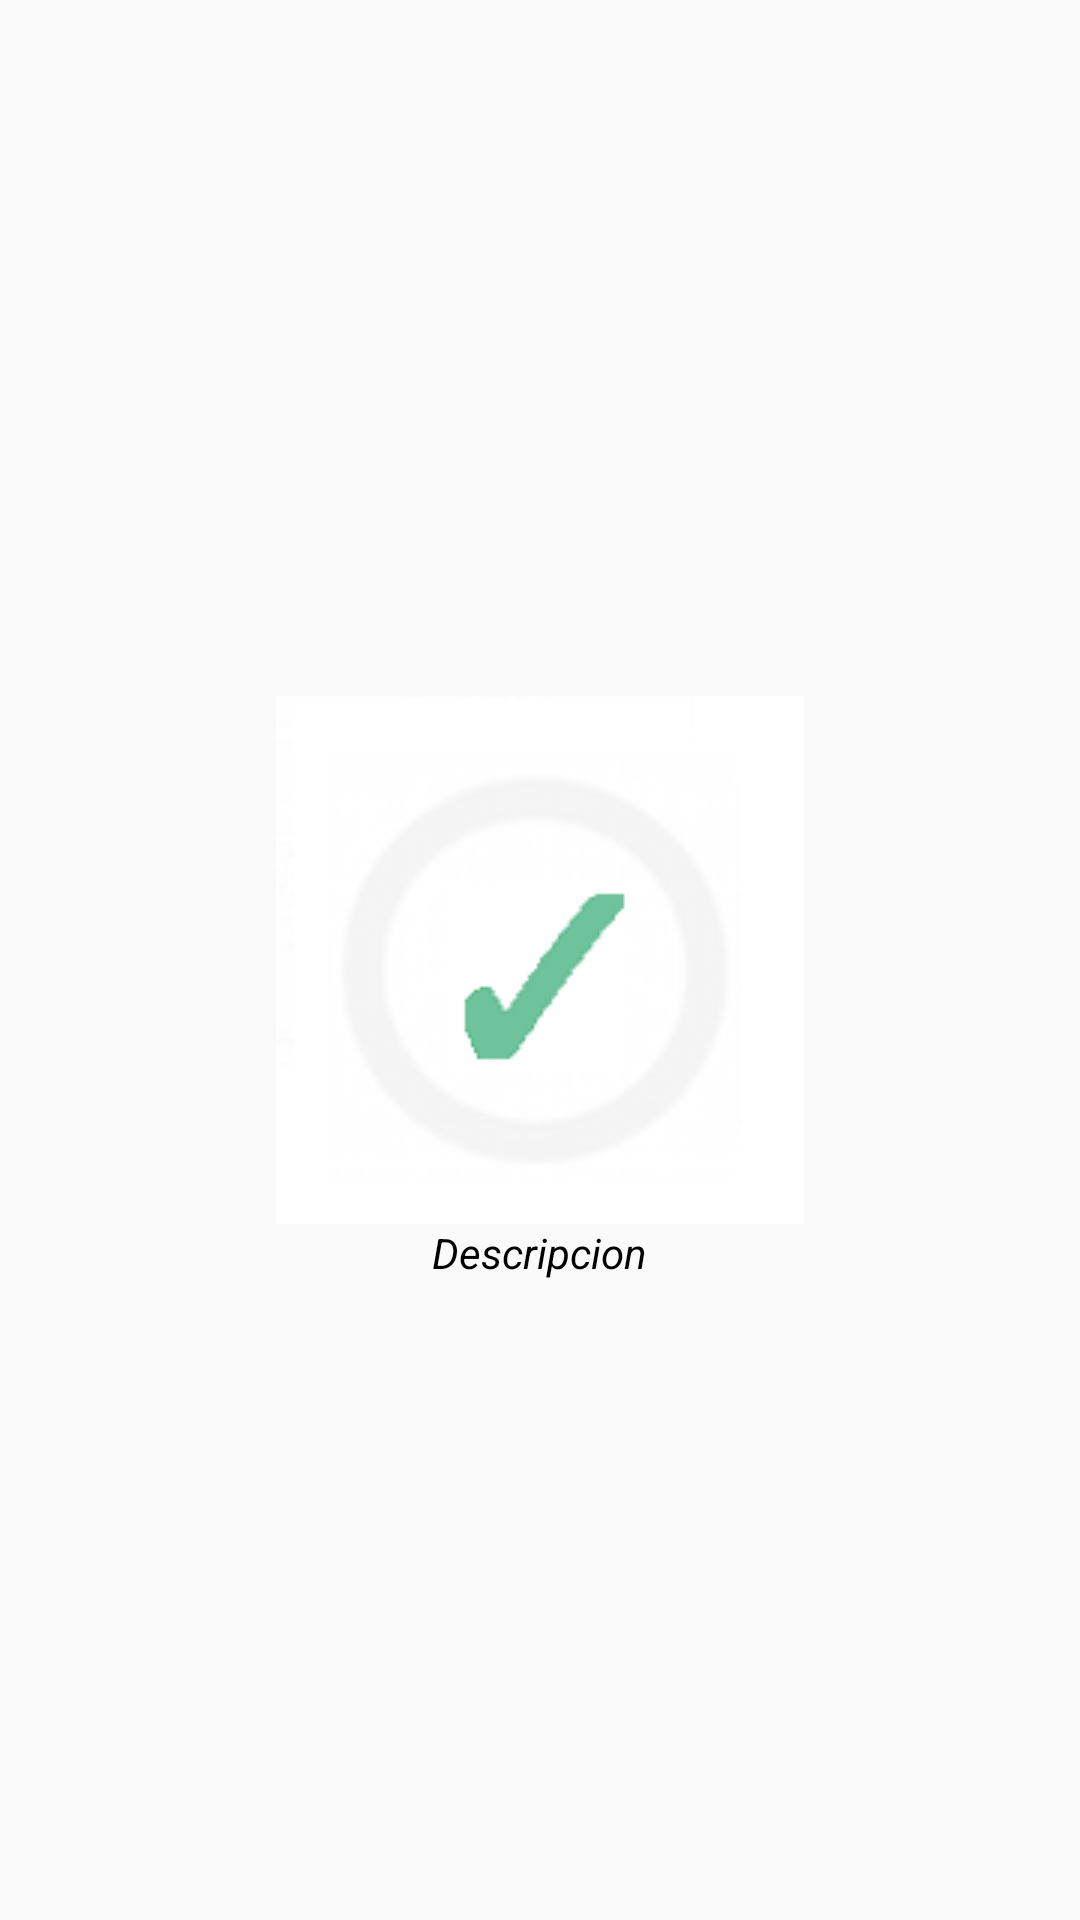

Icons on this 1080 × 1920 Android screen, each with its box as (x1, y1, x2, y2):
help yes: (464, 893, 625, 1060)
